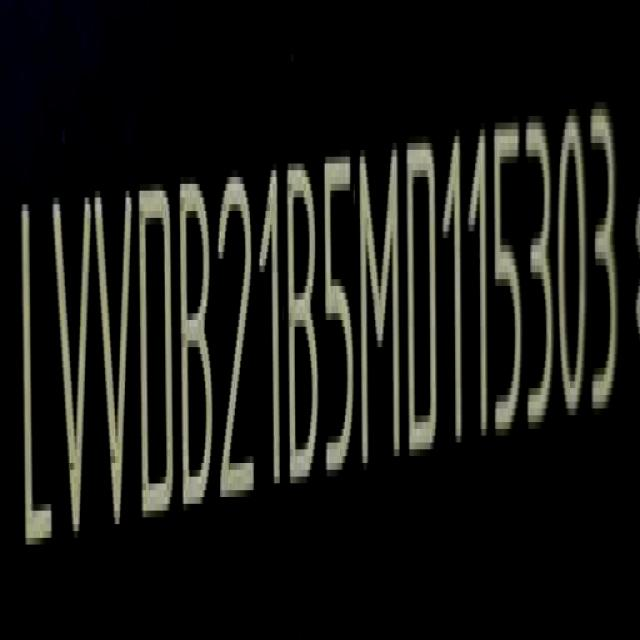0: (556, 104, 588, 429)
1: (260, 161, 284, 509), (442, 125, 462, 462), (466, 117, 485, 454)
2: (217, 170, 256, 520)
3: (588, 105, 618, 425), (526, 115, 555, 439)
5: (324, 148, 356, 493), (494, 116, 526, 448)
B: (182, 176, 218, 523), (292, 155, 325, 498)
D: (137, 177, 174, 531), (408, 132, 440, 468)
L: (17, 195, 52, 563)
M: (360, 144, 402, 482)
V: (50, 190, 93, 549), (96, 180, 137, 543)
